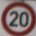20 km speed: (1, 1, 35, 36)
